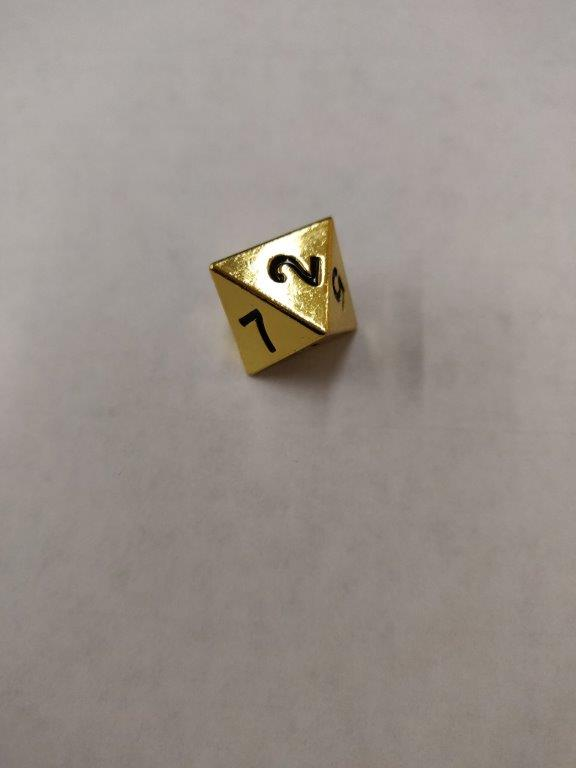d8-2: (206, 215, 361, 377)
